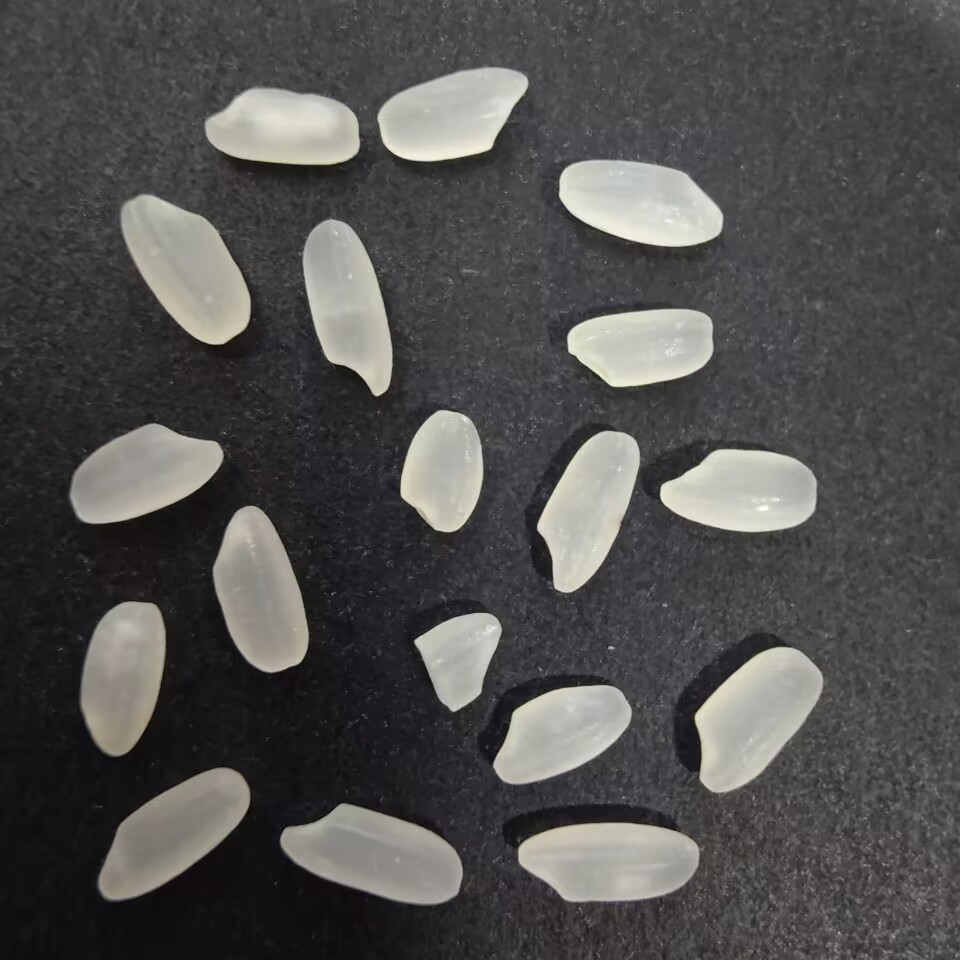broken: (412, 607, 505, 715)
rice: (91, 763, 255, 905), (113, 190, 256, 348), (273, 798, 467, 909), (691, 642, 828, 793), (529, 423, 644, 594), (207, 498, 315, 676), (63, 416, 230, 531), (506, 818, 709, 909), (297, 215, 395, 400), (369, 62, 531, 164), (486, 680, 637, 789), (71, 595, 169, 758), (556, 158, 729, 249), (652, 446, 822, 537), (203, 83, 365, 169), (560, 304, 717, 389), (391, 401, 487, 540)
